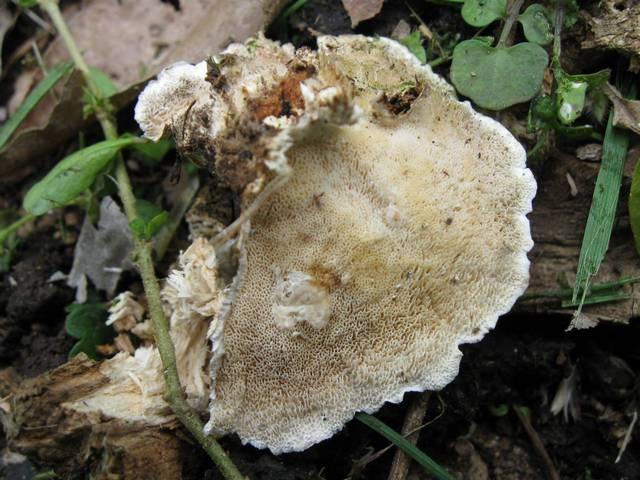poisonous_mushroom: (132, 30, 539, 455)
